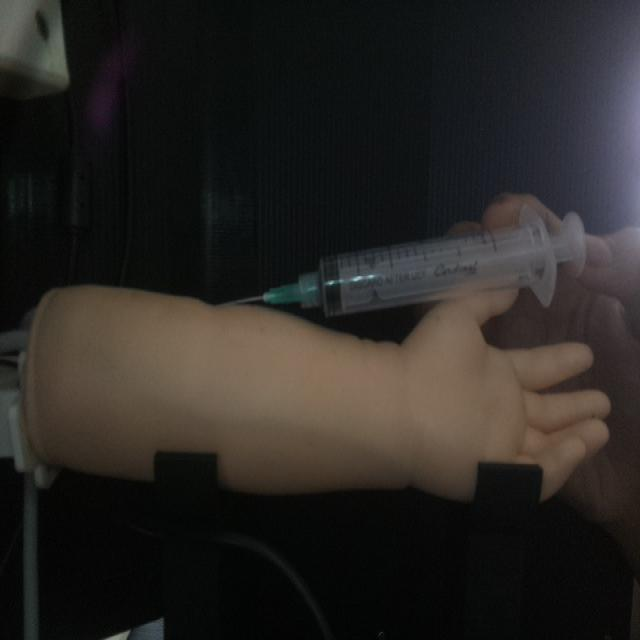Outside: (219, 200, 589, 322)
